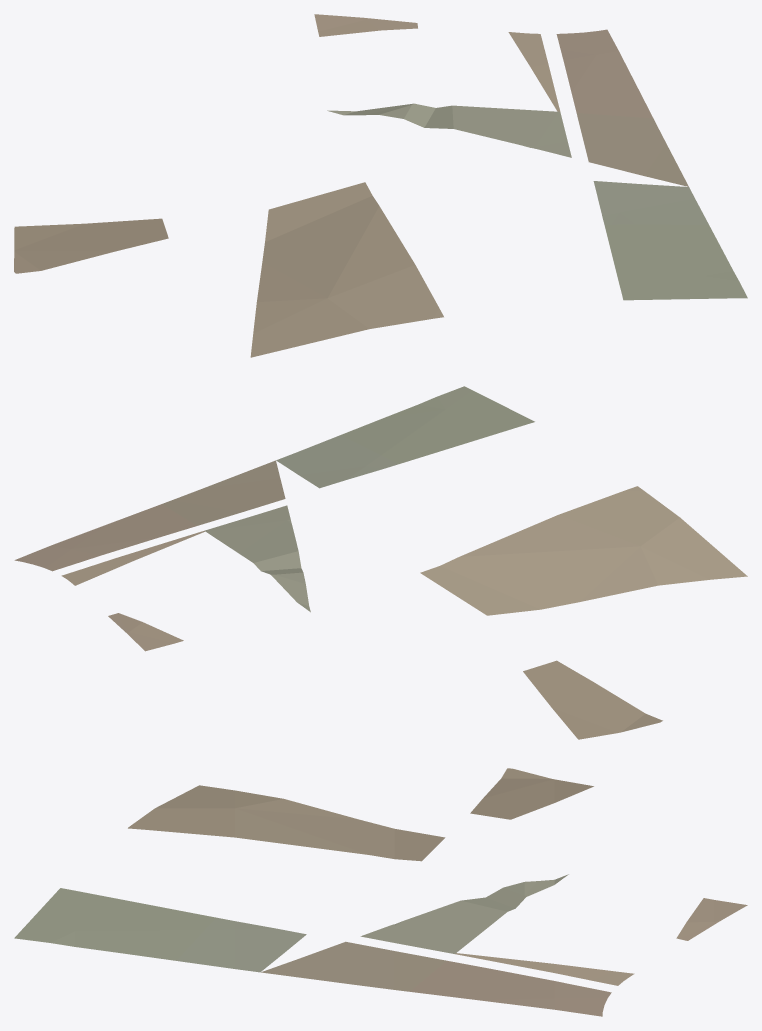
The model's file is farm_28_21_soil.glb.
The picture shows the model from 3 angles, top to bottom: view 1: azimuth 30°, elevation 25°; view 2: azimuth 150°, elevation 25°; view 3: azimuth 270°, elevation 25°; orthographic projection. The views are drawn at different scales.
Visible parts, largest first — view 1: geometry_0; view 2: geometry_0; view 3: geometry_0.
Part boxes in pixels (x1,y1,x2,y2): geometry_0: (14, 14, 747, 357); geometry_0: (14, 386, 747, 739); geometry_0: (14, 768, 747, 1016).
Size of the model in its own units: 352 by 33.55 by 367.
